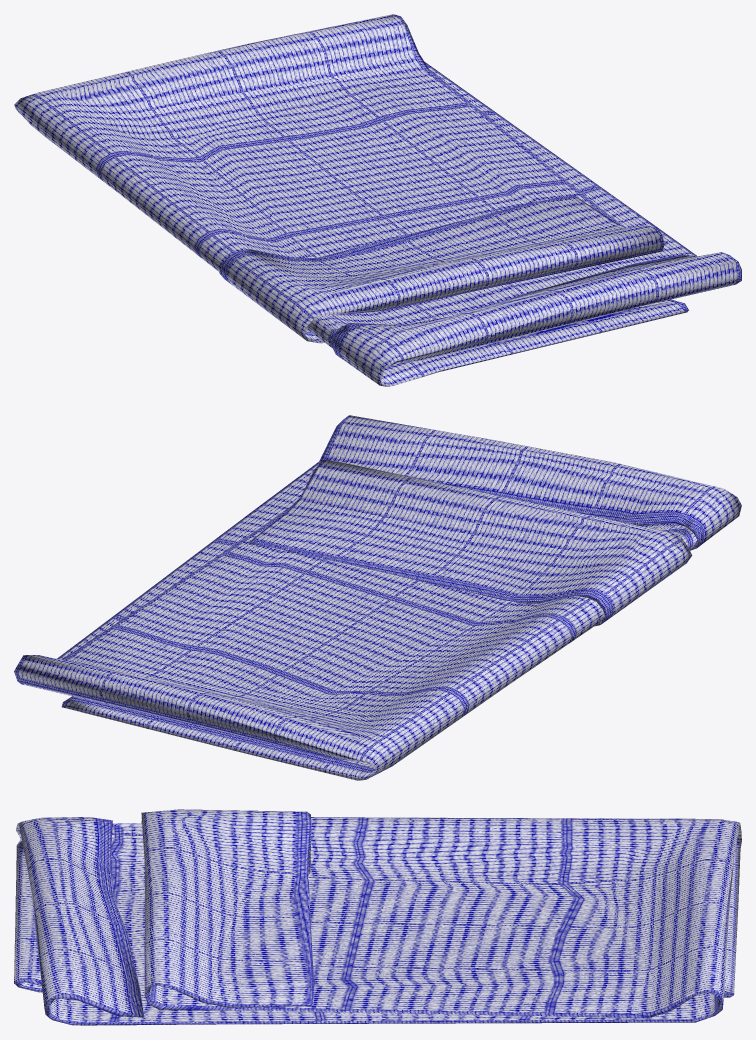
The model's file is chiffon.fbx.
3 renders of one model, top to bottom at view 1: azimuth 30°, elevation 25°; view 2: azimuth 150°, elevation 25°; view 3: azimuth 270°, elevation 25°, orthographic.
Visible parts, largest first — view 1: Tower; view 2: Tower; view 3: Tower.
Boxes of the visible parts, x1,y1,x2,y2 form: Tower: (14, 14, 741, 386); Tower: (14, 415, 741, 780); Tower: (14, 809, 741, 1025).
Bounding box in the file's own units: 541 × 53.89 × 880.
